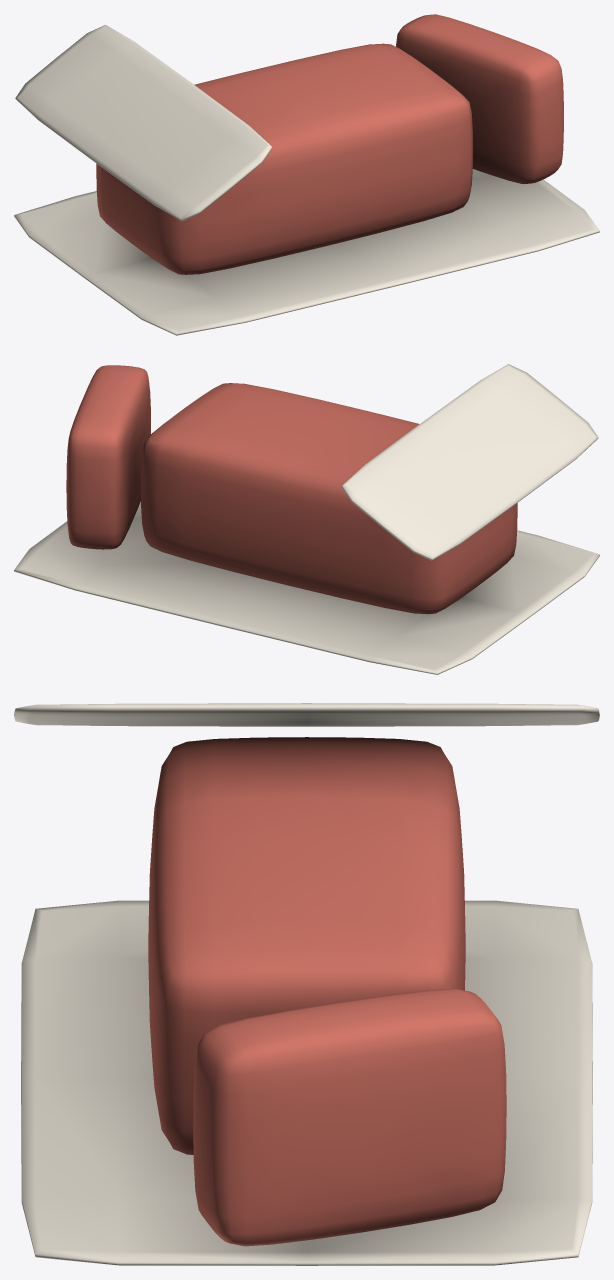
File: food_butter.glb
The picture shows the model from 3 angles, top to bottom: view 1: azimuth 30°, elevation 25°; view 2: azimuth 150°, elevation 25°; view 3: azimuth 270°, elevation 25°; orthographic projection. The views are drawn at different scales.
Visible parts, largest first — view 1: PART; view 2: PART; view 3: PART.
Boxes of the visible parts, bbox=[...] form: PART: bbox=[14, 14, 599, 335]; PART: bbox=[14, 364, 599, 674]; PART: bbox=[14, 703, 599, 1265].
Size of the model in its own units: 0.2061 by 0.0748 by 0.1375.
